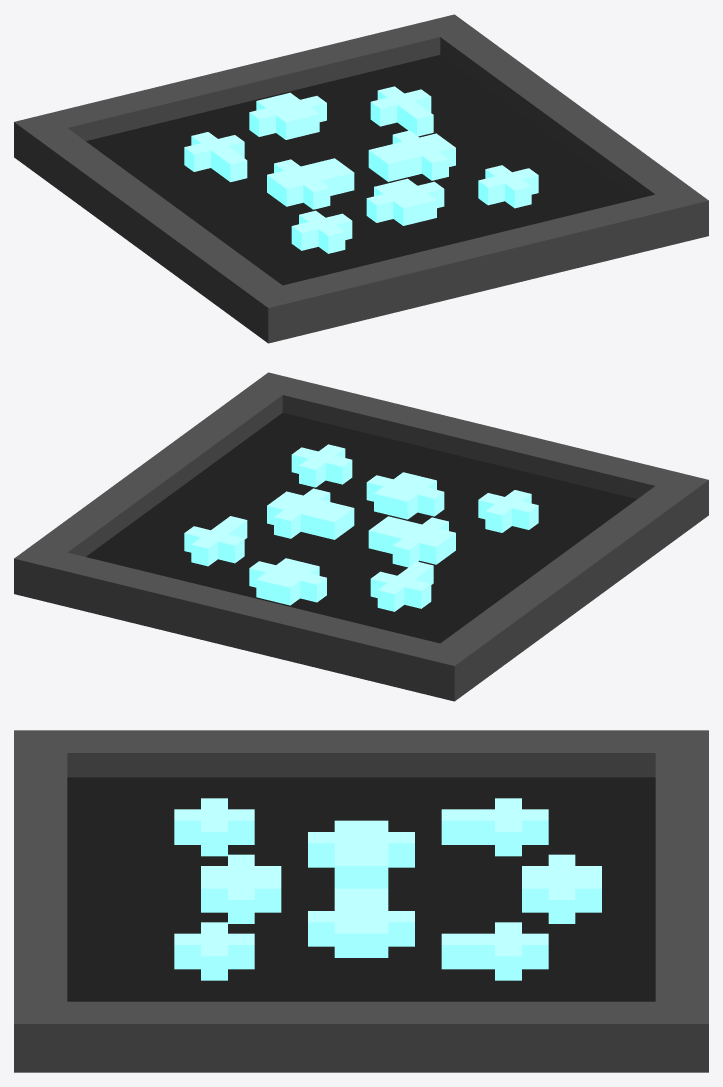
Rendered from trap_STARS_TEAL.glb.
3 renders of one model, top to bottom at view 1: azimuth 30°, elevation 25°; view 2: azimuth 150°, elevation 25°; view 3: azimuth 270°, elevation 25°, orthographic. The views are drawn at different scales.
Parts seen in each view (by area): view 1: item_TRAP_STARS_TEAL; view 2: item_TRAP_STARS_TEAL; view 3: item_TRAP_STARS_TEAL.
Boxes of the visible parts, x1=… form: item_TRAP_STARS_TEAL: x1=14, y1=14, x2=708, y2=343; item_TRAP_STARS_TEAL: x1=14, y1=372, x2=708, y2=701; item_TRAP_STARS_TEAL: x1=14, y1=730, x2=708, y2=1072.
Size of the model in its own units: 0.5909 by 0.0455 by 0.5909.
Materials: 1 (1 with a texture image).
